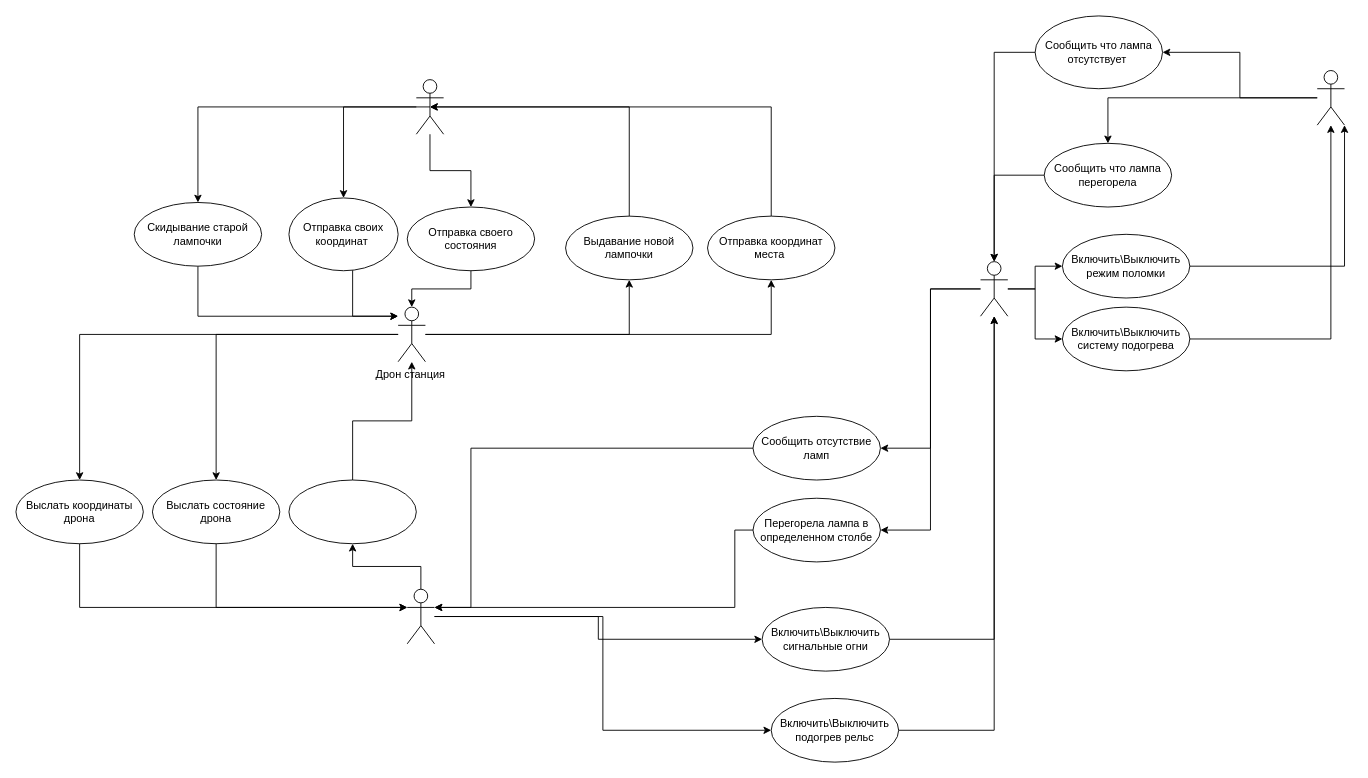
Some shapes in this 1368 by 778 pixel diagram are drawn without their labels. Each missing label, with the centre of its shape:
"Блок управления столбами" goes at (994,288).
"Выслать дрона на починку" goes at (352,511).
"Дрон" goes at (429,106).
"Сервер" goes at (420,616).
"Столб" goes at (1330,97).
